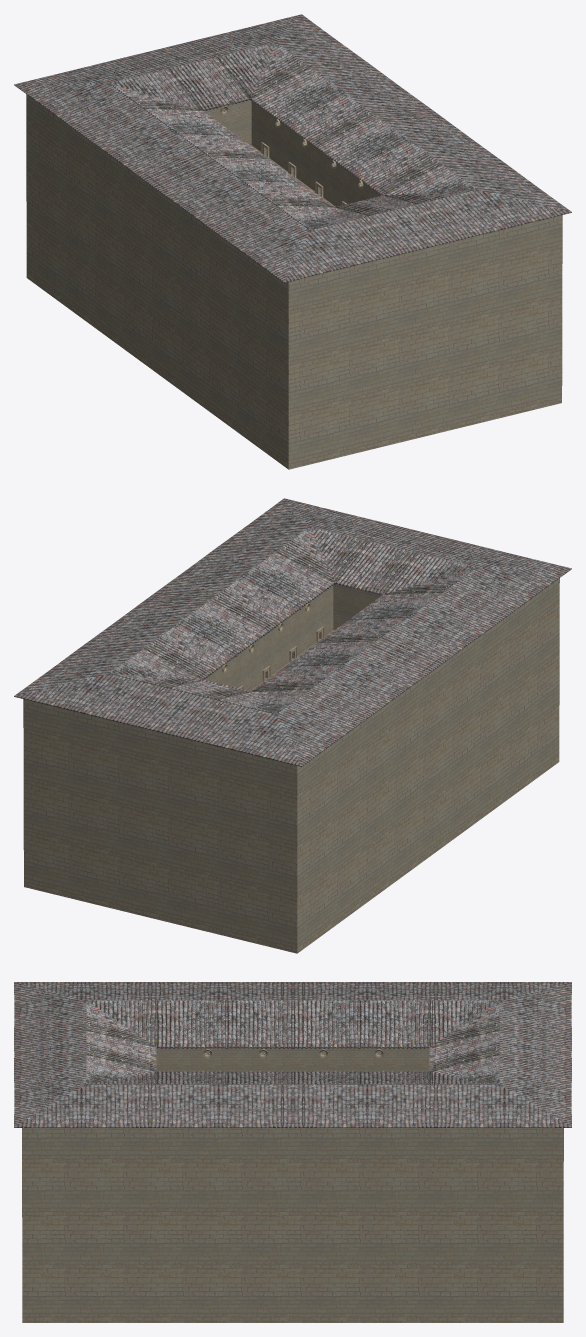
File: sponza-uncompressed.glb
The picture shows the model from 3 angles, top to bottom: view 1: azimuth 30°, elevation 25°; view 2: azimuth 150°, elevation 25°; view 3: azimuth 270°, elevation 25°; orthographic projection. The views are drawn at different scales.
Visible parts, largest first — view 1: BrickTrim_A, Roof, Arch_A; view 2: BrickTrim_A, Roof, Arch_A; view 3: BrickTrim_A, Roof.
Part boxes in pixels (x1,y1,x2,y2): BrickTrim_A: [26, 94, 562, 469]; Roof: [14, 14, 571, 282]; Arch_A: [220, 106, 363, 207]; BrickTrim_A: [23, 578, 559, 953]; Roof: [14, 498, 571, 766]; Arch_A: [222, 603, 334, 691]; BrickTrim_A: [22, 1047, 563, 1322]; Roof: [14, 982, 571, 1127].
Size of the model in its own units: 20.34 by 13.83 by 33.08.
24 materials, 24 textured.
